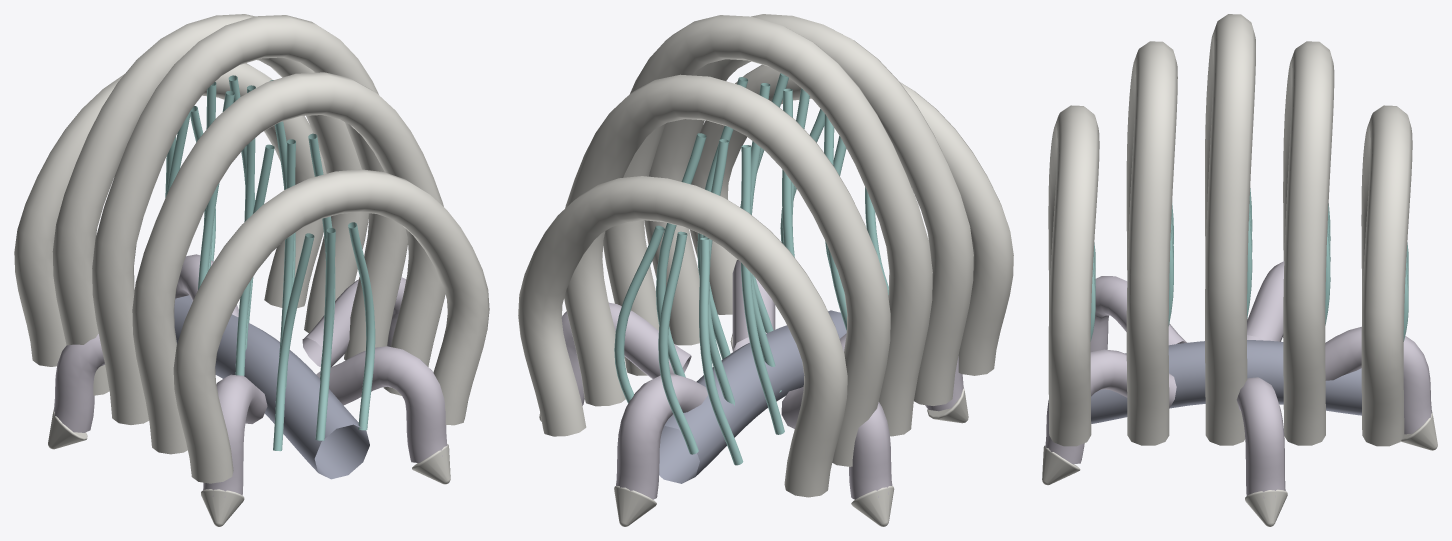
The model's file is bio_blind_harp_02_near.glb.
3 views of the same model, side by side, from view 1: azimuth 30°, elevation 25°; view 2: azimuth 150°, elevation 25°; view 3: azimuth 270°, elevation 25° (orthographic). The views are drawn at different scales.
Parts seen in each view (by area): view 1: Open rib arch.001, Open rib arch.002, Open rib arch, Open rib arch.003, Open rib arch.004, Low axial spine, Crooked support.004, Resonance filament, Resonance filament.003, Crooked support.002, Crooked support.003, Resonance filament.006 (+7 smaller); view 2: Open rib arch.003, Open rib arch.004, Open rib arch.002, Open rib arch.001, Open rib arch, Low axial spine, Resonance filament.012, Resonance filament.009, Crooked support.001, Crooked support.002, Resonance filament.006, Crooked support (+6 smaller); view 3: Open rib arch.002, Open rib arch.003, Open rib arch.001, Open rib arch.004, Open rib arch, Low axial spine, Crooked support, Crooked support.001, Crooked support.004, Crooked support.002, Crooked support.003, Contact spur (+4 smaller).
Part boxes in pixels (left/top/right/bottom): Open rib arch.001: left=132, top=72, right=445, bottom=454; Open rib arch.002: left=92, top=15, right=407, bottom=424; Open rib arch: left=173, top=169, right=489, bottom=483; Open rib arch.003: left=52, top=14, right=369, bottom=395; Open rib arch.004: left=14, top=63, right=326, bottom=366; Low axial spine: left=174, top=295, right=369, bottom=479; Crooked support.004: left=316, top=346, right=448, bottom=462; Resonance filament: left=273, top=222, right=375, bottom=451; Resonance filament.003: left=235, top=133, right=335, bottom=388; Crooked support.002: left=53, top=334, right=104, bottom=432; Crooked support.003: left=203, top=374, right=267, bottom=497; Resonance filament.006: left=198, top=80, right=295, bottom=349; Open rib arch.003: left=564, top=74, right=890, bottom=466; Open rib arch.004: left=518, top=176, right=847, bottom=497; Open rib arch.002: left=603, top=15, right=932, bottom=436; Open rib arch.001: left=644, top=14, right=973, bottom=405; Open rib arch: left=689, top=64, right=1013, bottom=375; Low axial spine: left=659, top=310, right=846, bottom=483; Resonance filament.012: left=614, top=225, right=743, bottom=465; Resonance filament.009: left=656, top=133, right=784, bottom=434; Crooked support.001: left=616, top=373, right=707, bottom=499; Crooked support.002: left=781, top=386, right=892, bottom=499; Resonance filament.006: left=697, top=77, right=794, bottom=392; Crooked support: left=561, top=302, right=691, bottom=405; Open rib arch.002: left=1205, top=14, right=1255, bottom=445; Open rib arch.003: left=1283, top=41, right=1334, bottom=445; Open rib arch.001: left=1126, top=41, right=1177, bottom=445; Open rib arch.004: left=1361, top=105, right=1412, bottom=446; Open rib arch: left=1048, top=105, right=1099, bottom=446; Low axial spine: left=1091, top=340, right=1361, bottom=423; Crooked support: left=1236, top=377, right=1285, bottom=498; Crooked support.001: left=1325, top=326, right=1432, bottom=434; Crooked support.004: left=1044, top=349, right=1176, bottom=464; Crooked support.002: left=1247, top=261, right=1284, bottom=341; Crooked support.003: left=1090, top=276, right=1186, bottom=351; Contact spur: left=1245, top=489, right=1287, bottom=526.
Bounding box in the file's own units: 1.91 × 2.15 × 1.88.
